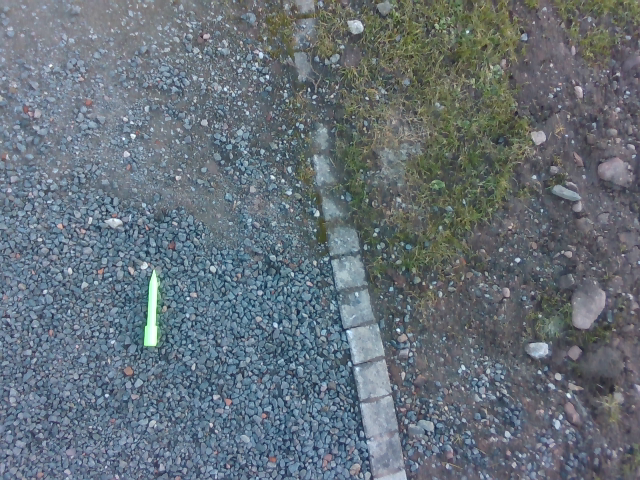Probe: (140, 265, 163, 353)
